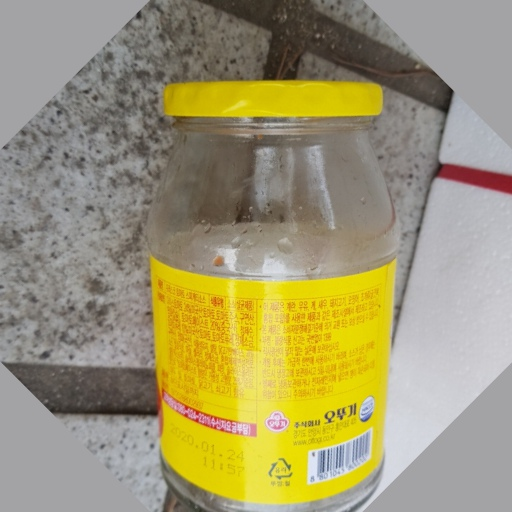Glass_5: (147, 79, 399, 512)
